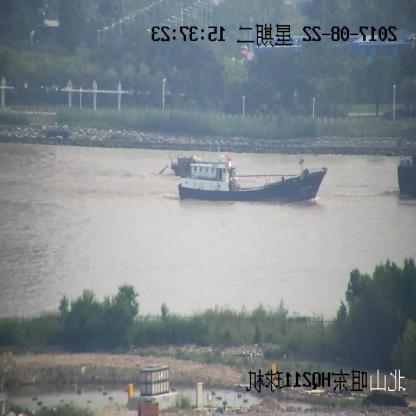Fishing Boat: (178, 160, 326, 204), (157, 158, 235, 177)
